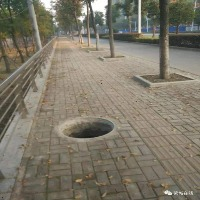Open_manhole: (54, 110, 123, 150)
